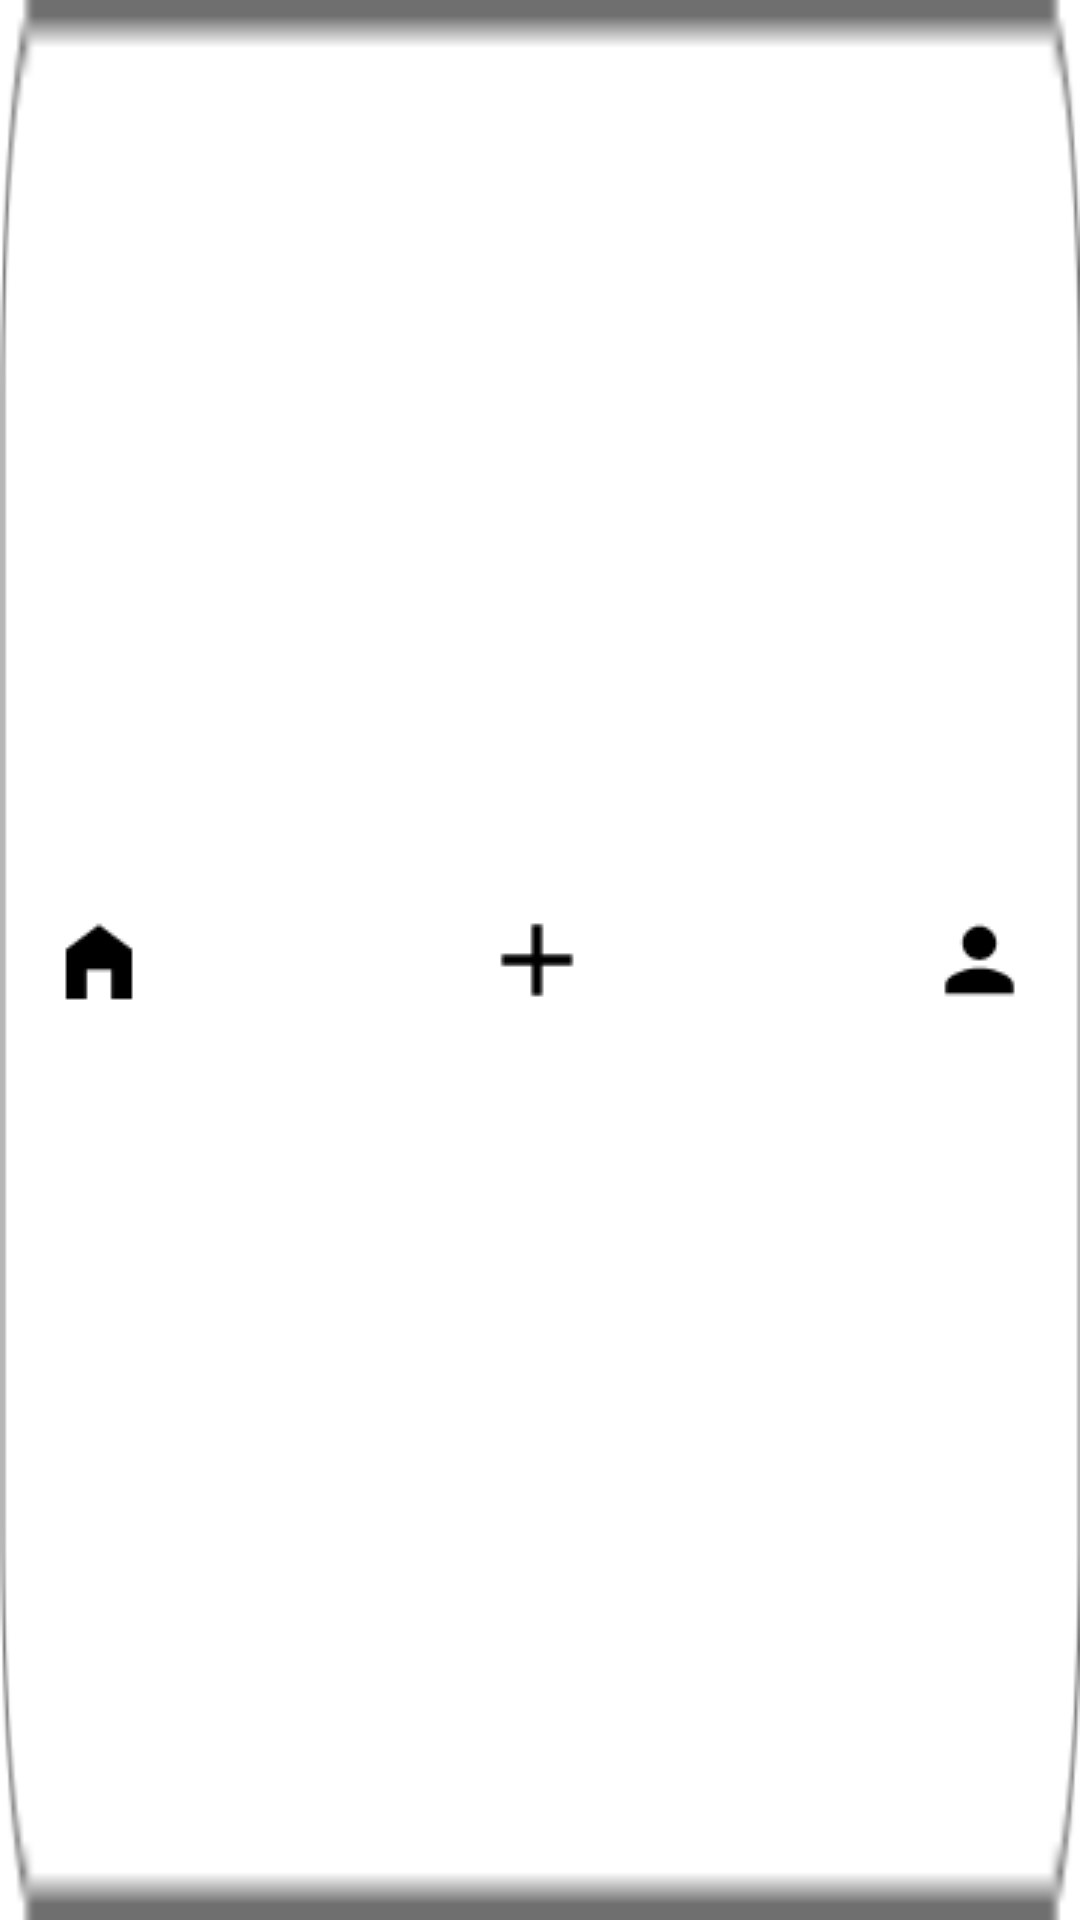

Icon click points for this 1080px×1920px phone screenshot, format (x,y):
add: (537,960)
home: (99,961)
profile: (979,960)
